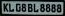character: (39, 3, 45, 12), (50, 3, 56, 12), (8, 3, 14, 11), (15, 3, 21, 11), (27, 3, 32, 12), (33, 3, 38, 12), (45, 3, 50, 12), (56, 3, 61, 12), (3, 3, 8, 11), (21, 3, 26, 11)
